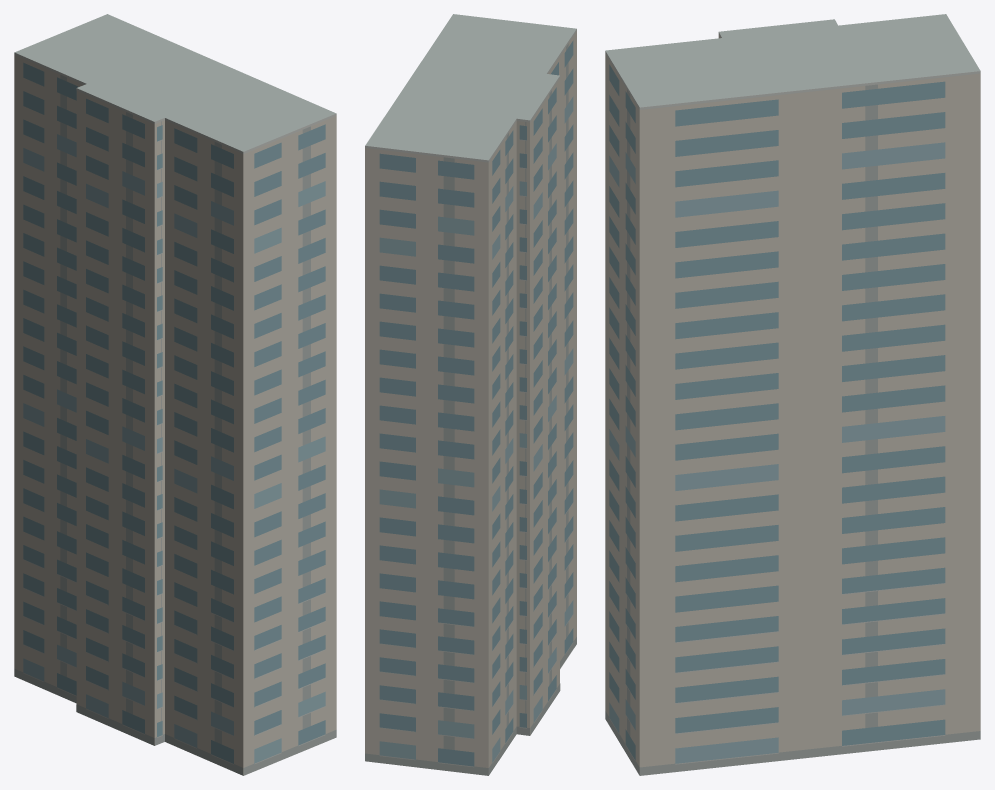
Rendered from survey-upis-32847503.glb.
3 views of the same model, side by side, from view 1: azimuth 30°, elevation 25°; view 2: azimuth 150°, elevation 25°; view 3: azimuth 270°, elevation 25° (orthographic). The views are drawn at different scales.
Visible parts, largest first — view 1: survey-upis-32847503.tmp; view 2: survey-upis-32847503.tmp; view 3: survey-upis-32847503.tmp.
Boxes of the visible parts, <box> form: survey-upis-32847503.tmp: <box>14,14,336,775</box>; survey-upis-32847503.tmp: <box>365,14,576,775</box>; survey-upis-32847503.tmp: <box>605,14,980,775</box>.
Size of the model in its own units: 20.16 by 67.1 by 34.17.
